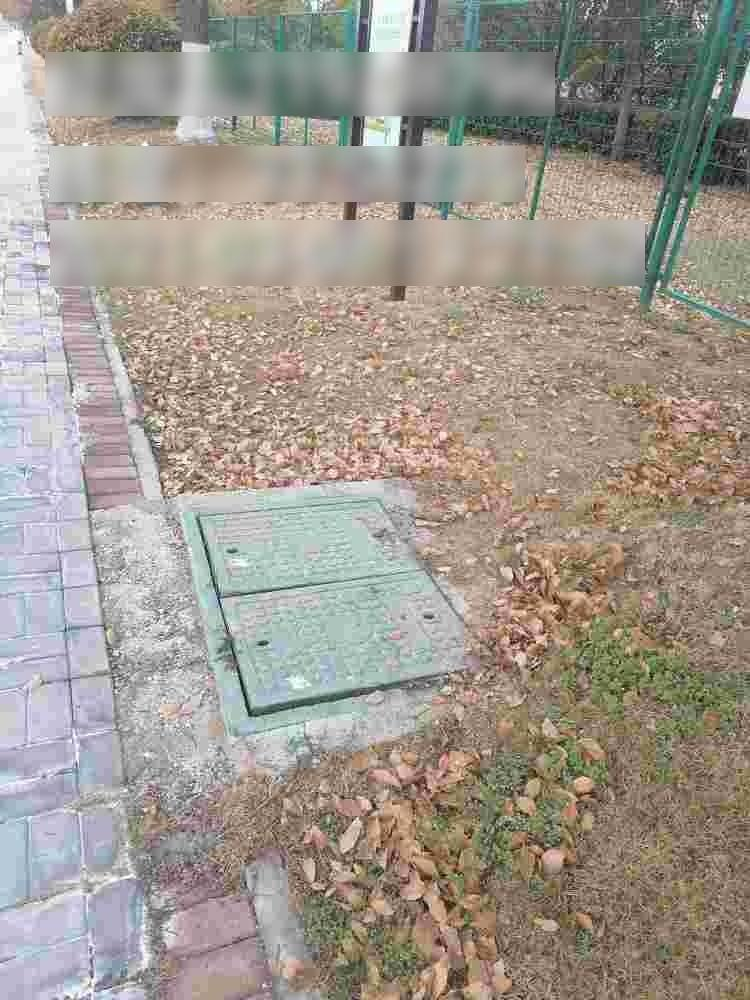wellcover: (179, 479, 486, 743)
